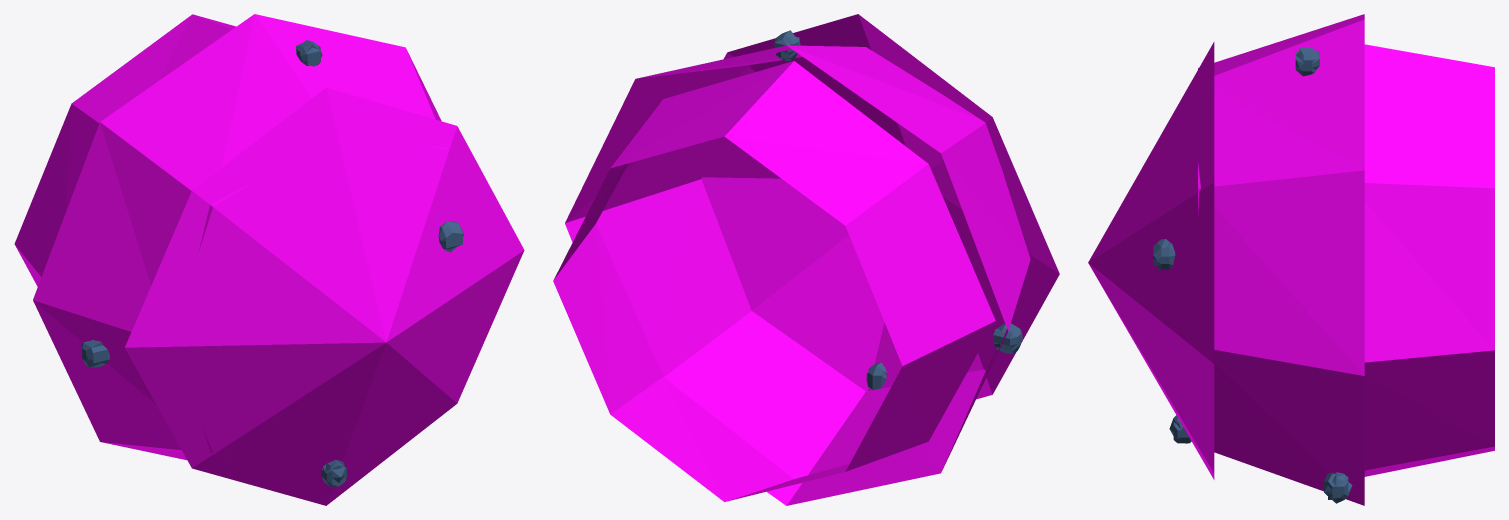
Rendered from dwellberrybush.obj.
The picture shows the model from 3 angles, left to right: view 1: azimuth 30°, elevation 25°; view 2: azimuth 150°, elevation 25°; view 3: azimuth 270°, elevation 25°; orthographic projection. The views are drawn at different scales.
Visible parts, largest first — view 1: dwellberrybush; view 2: dwellberrybush; view 3: dwellberrybush.
Part boxes in pixels (box(x1,y1,x2,y2)): dwellberrybush: box(14, 14, 524, 505); dwellberrybush: box(553, 14, 1059, 505); dwellberrybush: box(1088, 14, 1494, 505).
Size of the model in its own units: 1.32 by 1.31 by 1.
